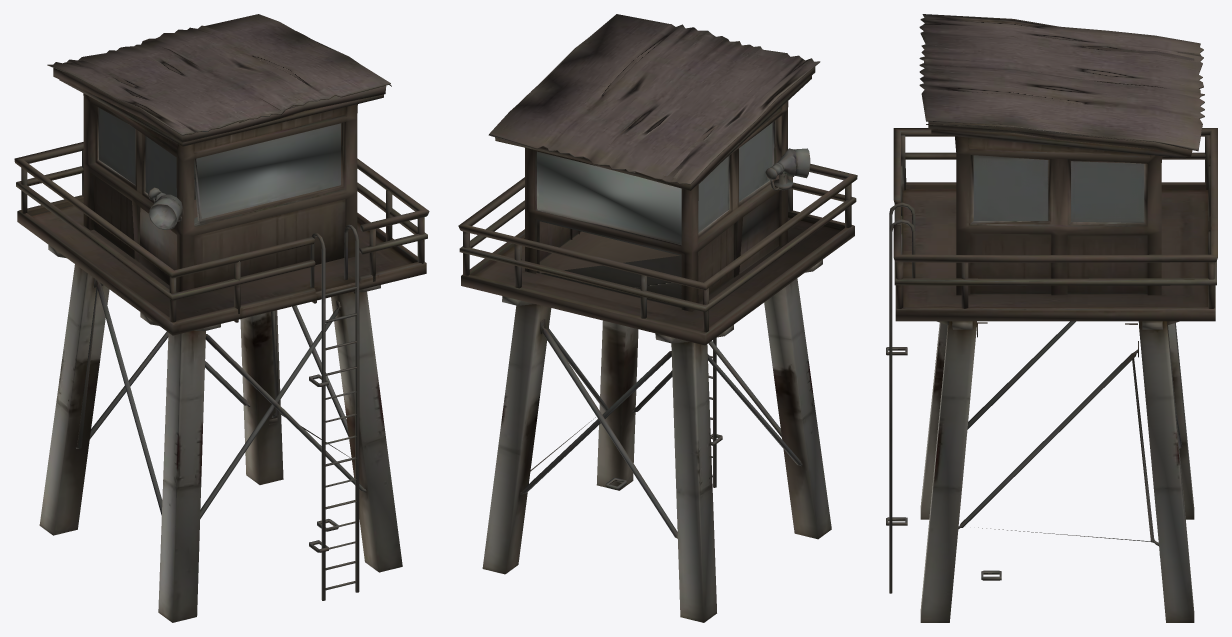
Rendered from torre_vigilancia.glb.
3 views of the same model, side by side, from view 1: azimuth 30°, elevation 25°; view 2: azimuth 150°, elevation 25°; view 3: azimuth 270°, elevation 25° (orthographic). The views are drawn at different scales.
Parts seen in each view (by area): view 1: Torre de vigilância; view 2: Torre de vigilância; view 3: Torre de vigilância.
Boxes of the visible parts, box(x1,y1,x2,y2) form: Torre de vigilância: box(14, 14, 429, 622); Torre de vigilância: box(458, 14, 857, 622); Torre de vigilância: box(886, 14, 1217, 622).
Bounding box in the file's own units: 0.5527 × 0.998 × 0.5996.
1 material, 1 textured.
